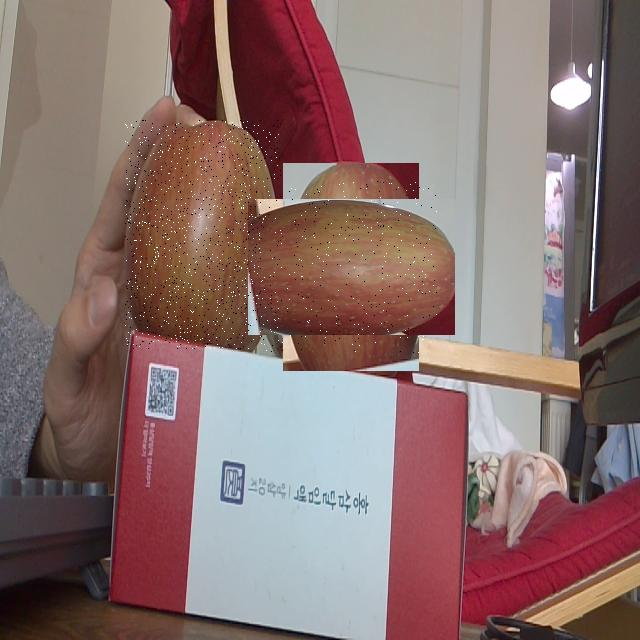apple: (125, 120, 281, 349), (265, 181, 437, 353)
